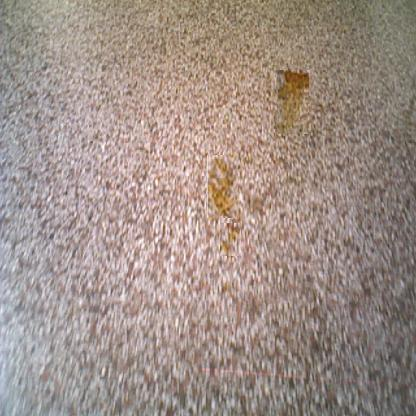liquid: (277, 70, 311, 134), (207, 154, 238, 218), (219, 222, 241, 256)
